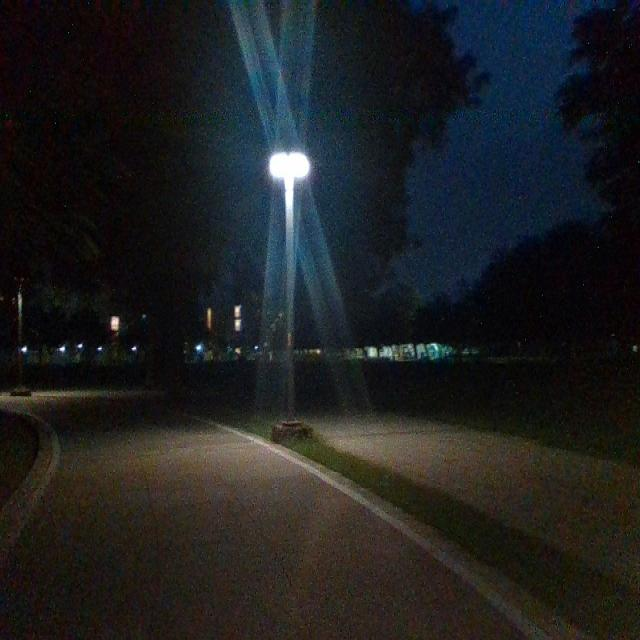lane: (1, 431, 537, 640)
